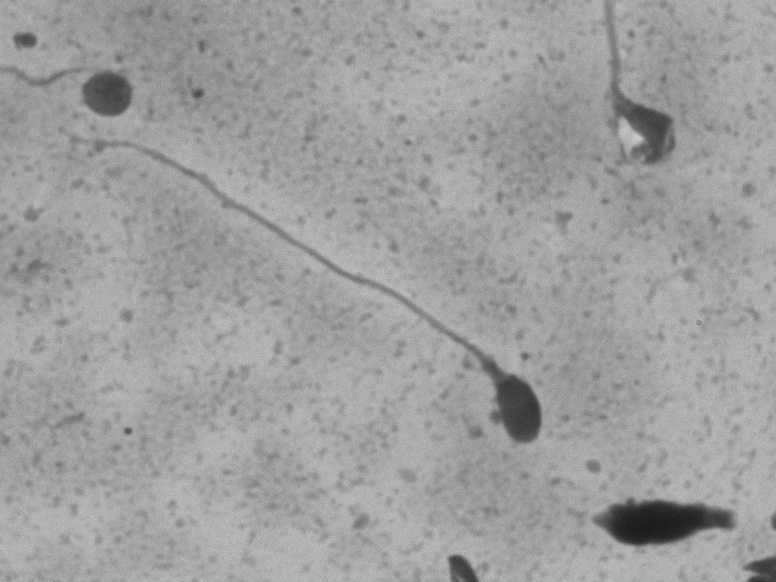Abnormal: (52, 123, 594, 472)
